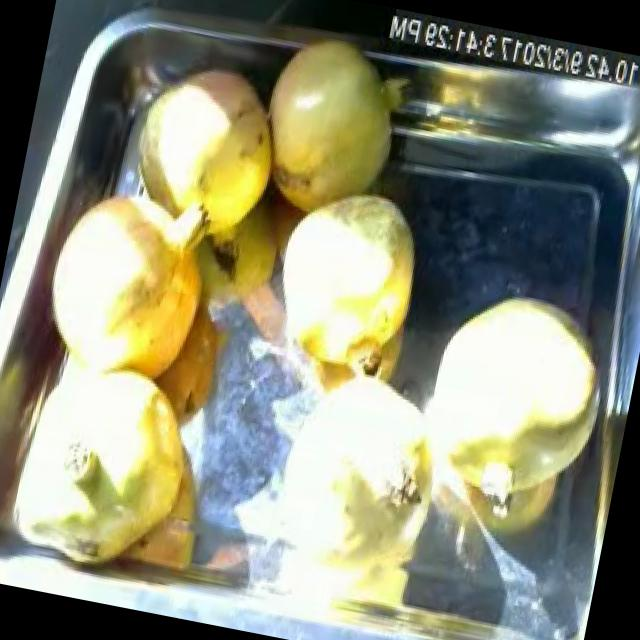fruit: (246, 337, 474, 602), (8, 339, 226, 604), (18, 165, 240, 412), (247, 162, 440, 402), (107, 40, 301, 262), (414, 268, 620, 466), (242, 21, 422, 236)
